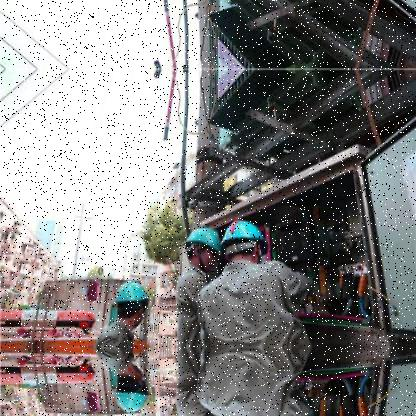Helmet: (220, 218, 270, 272), (110, 278, 154, 335), (103, 366, 154, 415), (182, 228, 226, 272)
